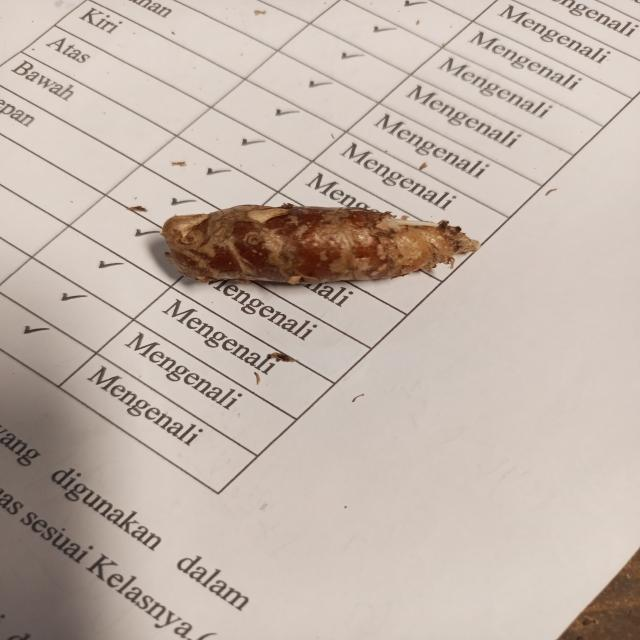ginger: (176, 201, 467, 286)
